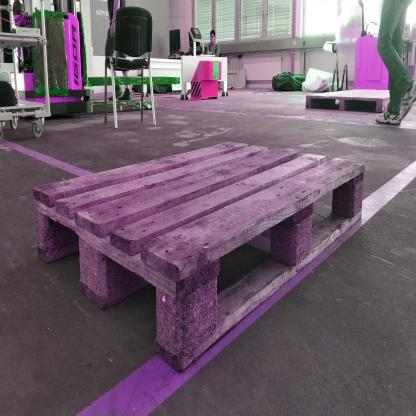BoxFace: (35, 138, 367, 375), (304, 89, 391, 116)
